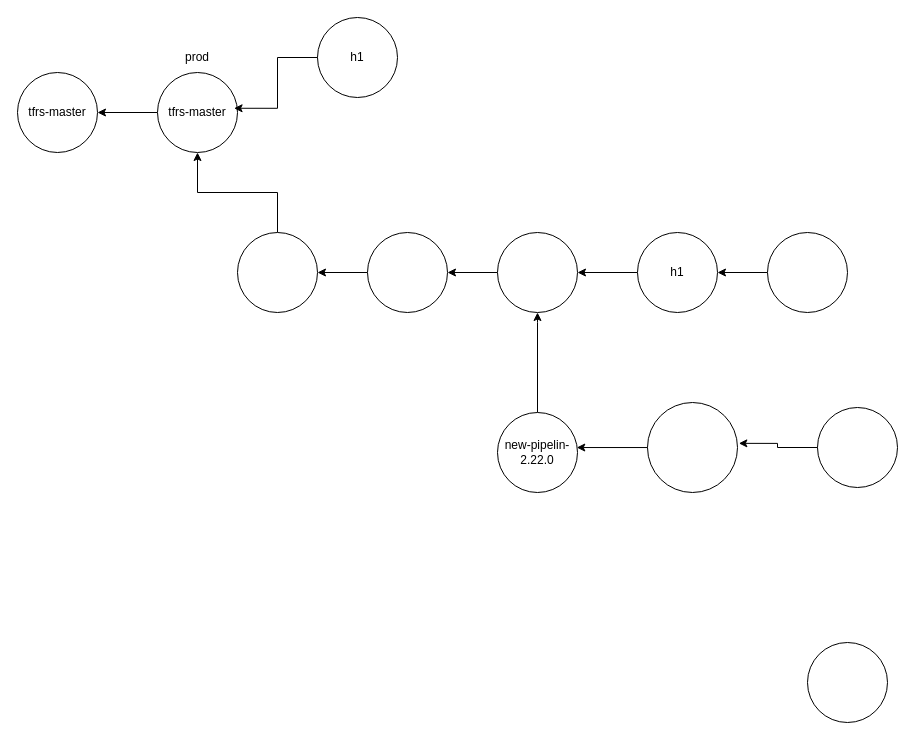
The diagram is 915 pixels wide and 740 high, and some of its shapes have lost their labels. The shapes that lost their labels are listed below. From the top down, each one's box as (x1, y1, x2, y2) in pixels, then its label:
(236, 232, 318, 312): tfrs-release-2.22.0
(806, 642, 888, 722): lcfs-release-0.2.0
